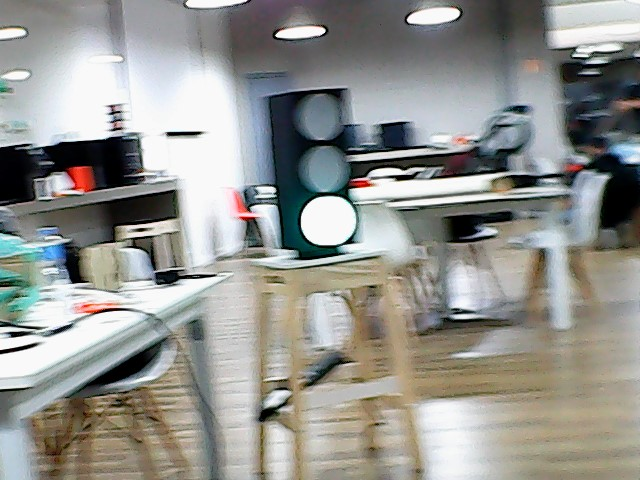verde: (257, 83, 370, 255)
